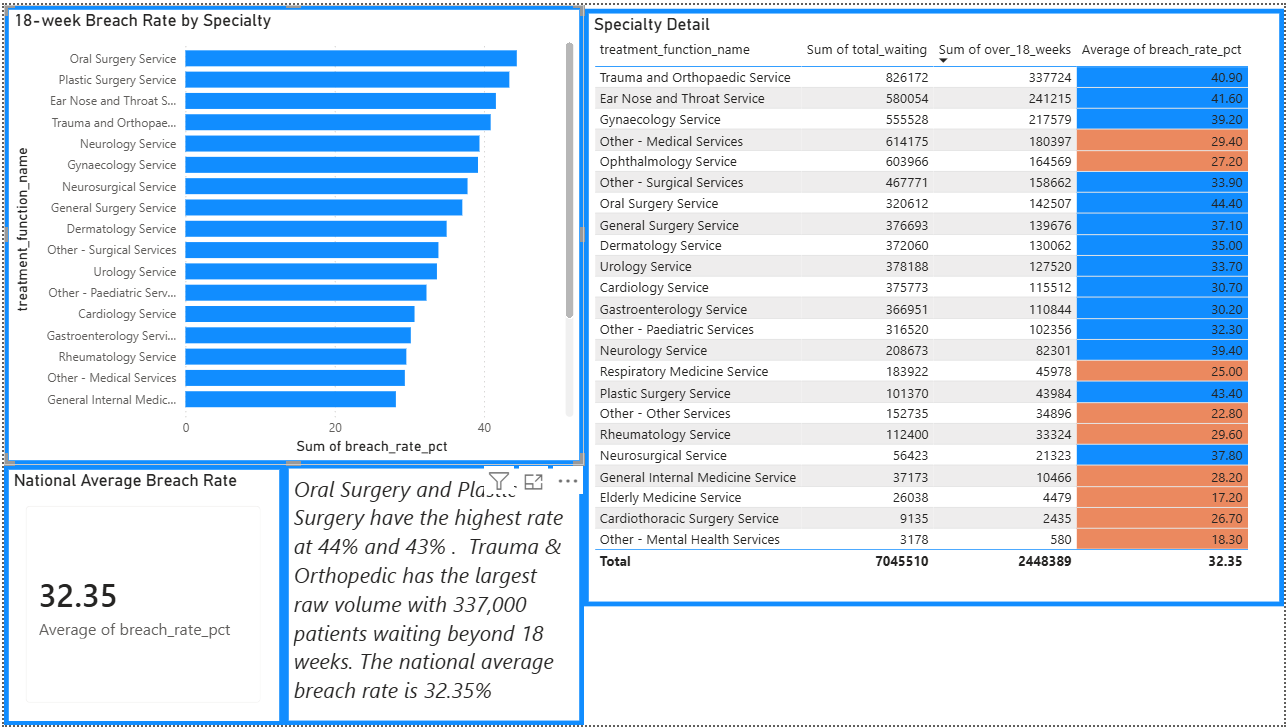

The page's visual inventory and layout, read from the dashboard file:
{"tool":"powerbi","page":{"name":"Breach Risk by Speciality","canvas":[1280,720],"ordinal":1},"visuals":[{"type":"cardVisual","title":"National Average Breach Rate","fields":{"Data":["Avg(powerbi_specialty (1).breach_rate_pct)"]},"box":[0,459.7,279.9,260.7],"z":0},{"type":"clusteredBarChart","title":"18-week Breach Rate by Specialty","fields":{"Category":["powerbi_specialty (1).treatment_function_name"],"Y":["Sum(powerbi_specialty (1).breach_rate_pct)"]},"box":[0,0,580,460],"z":1000},{"type":"tableEx","title":"Specialty Detail","fields":{"Values":["powerbi_specialty (1).treatment_function_name","Sum(powerbi_specialty (1).total_waiting)","Sum(powerbi_specialty (1).over_18_weeks)","Avg(powerbi_specialty (1).breach_rate_pct)"]},"box":[580,3.8,700,597.5],"z":2000},{"type":"textbox","box":[280,458.8,300,261.2],"z":3000}]}

Visuals, with their boxes in screenshot pixels (x1, y1, x2, y2), scaled from the page's 1280x720 canvas onto the 1287x727 screenshot:
"National Average Breach Rate" cardVisual: {"left": 0, "top": 464, "right": 281, "bottom": 726}
"18-week Breach Rate by Specialty" clusteredBarChart: {"left": 0, "top": 0, "right": 583, "bottom": 464}
"Specialty Detail" tableEx: {"left": 583, "top": 4, "right": 1286, "bottom": 607}
textbox: {"left": 282, "top": 463, "right": 583, "bottom": 726}
